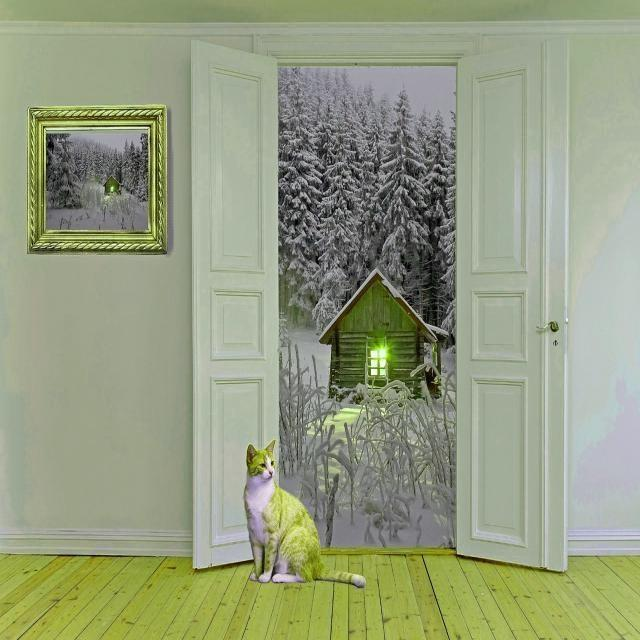door: (454, 35, 567, 571)
